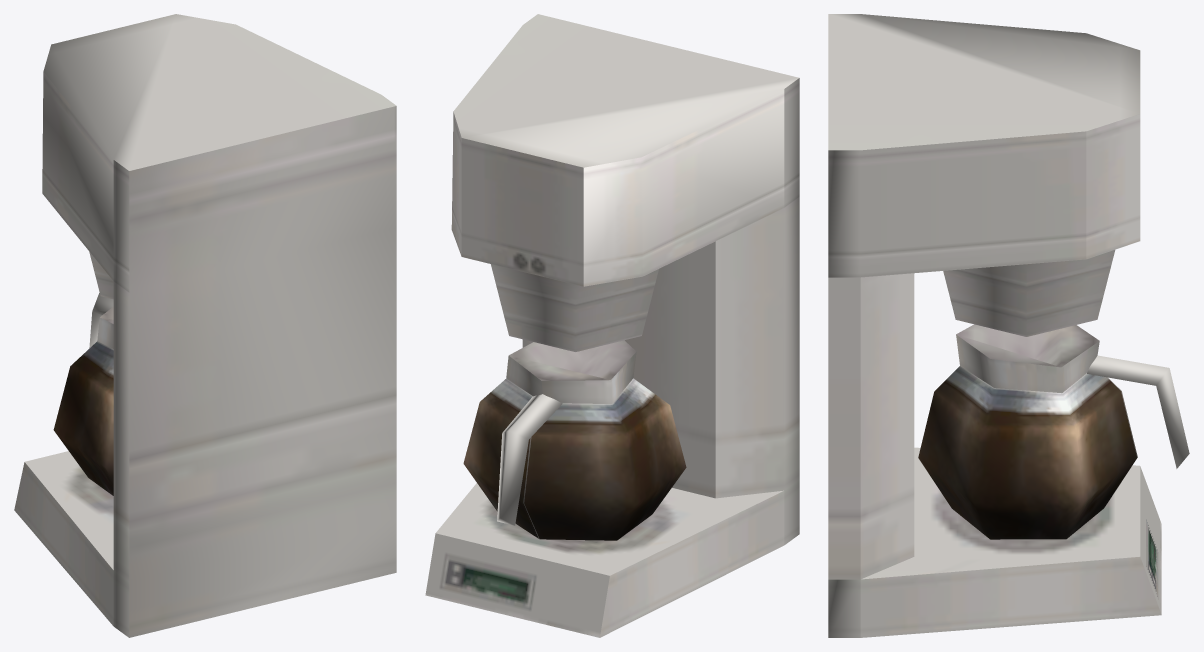
Rendered from default_coffee.fbx.
The picture shows the model from 3 angles, left to right: view 1: azimuth 30°, elevation 25°; view 2: azimuth 150°, elevation 25°; view 3: azimuth 270°, elevation 25°; orthographic projection. The views are drawn at different scales.
Visible parts, largest first — view 1: mesh_0; view 2: mesh_0; view 3: mesh_0.
Part boxes in pixels (box(x1,y1,x2,y2)): mesh_0: box(14, 14, 396, 637); mesh_0: box(425, 14, 799, 637); mesh_0: box(828, 14, 1189, 637).
Size of the model in its own units: 30 by 50.02 by 33.59.
Materials: 1 (1 with a texture image).
